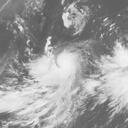cyclone: (30, 50, 78, 86)
